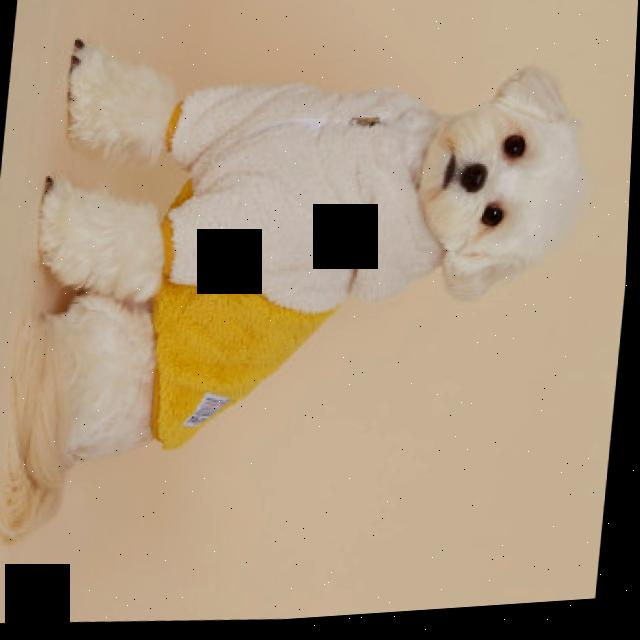cloth: (154, 89, 445, 452)
